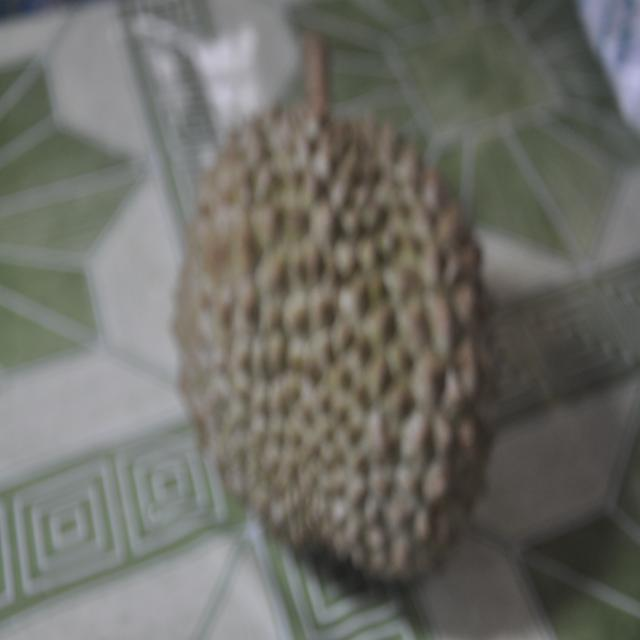mature: (152, 28, 522, 600)
